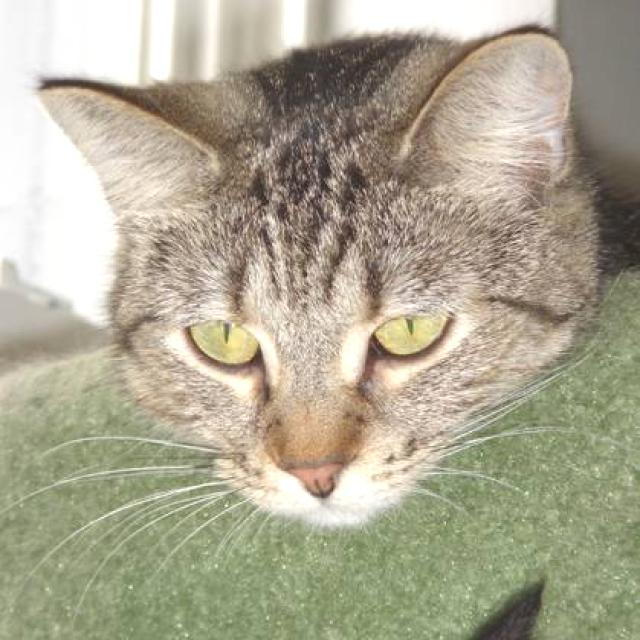Kucing: (37, 16, 640, 566)
